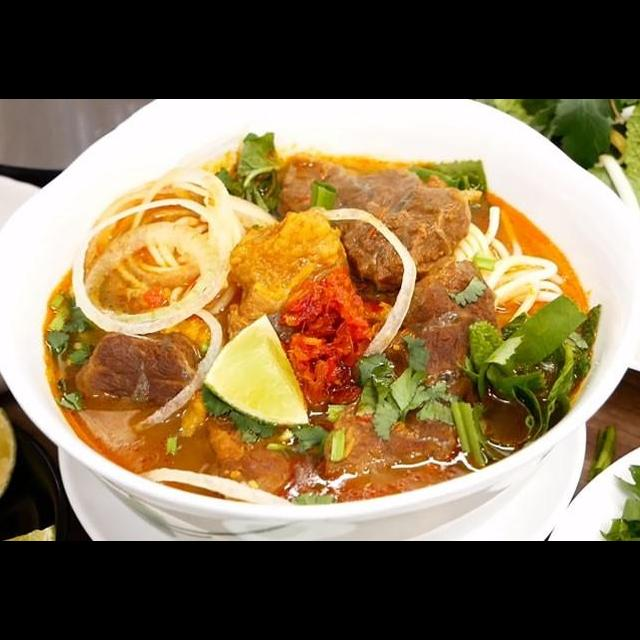bun: (446, 200, 575, 314)
bun bo: (0, 127, 640, 541)
thit bo: (266, 150, 475, 299), (319, 385, 476, 499), (394, 253, 503, 411), (69, 326, 212, 421), (199, 404, 301, 512)
